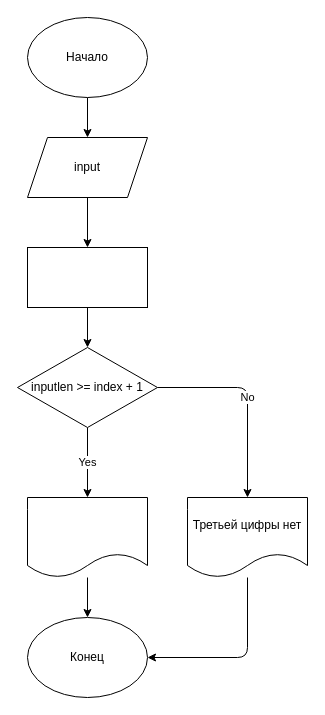
The diagram is 325 pixels wide and 715 high, and some of its shapes have lost their labels. Each missing label, with the centre of its shape:
"inputlen index = 2" goes at point 87,277.
"Вывод третьей цифры введённого числа" goes at point 87,537.
